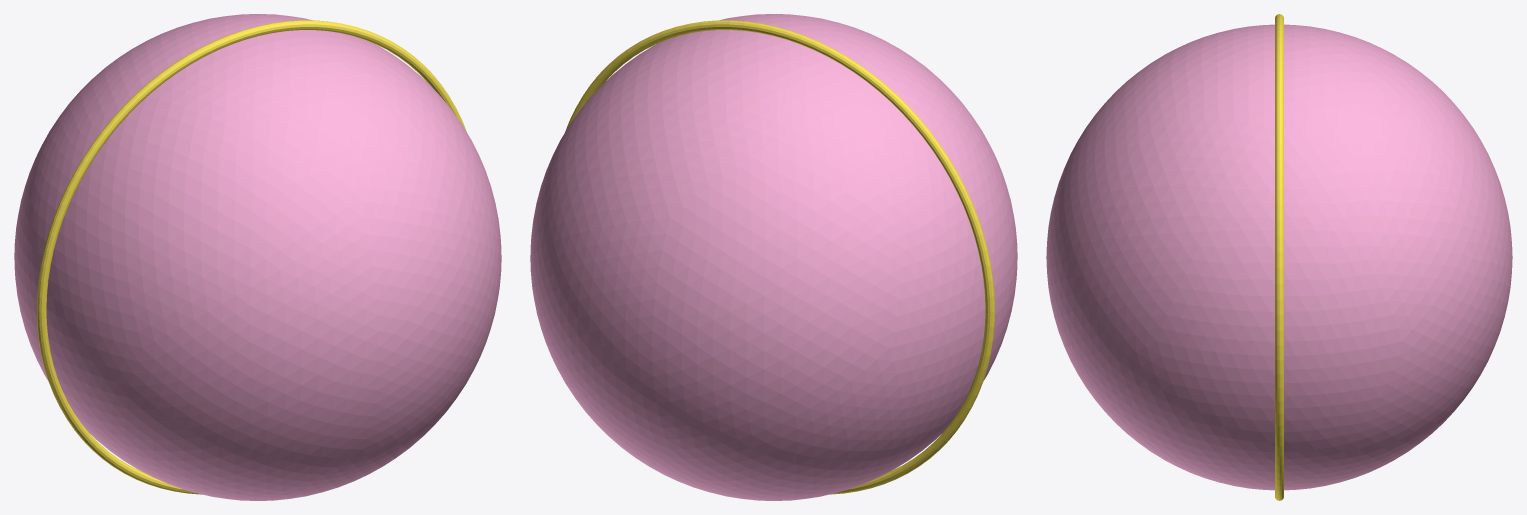
The model's file is matcau.glb.
3 views of the same model, side by side, from view 1: azimuth 30°, elevation 25°; view 2: azimuth 150°, elevation 25°; view 3: azimuth 270°, elevation 25° (orthographic). The views are drawn at different scales.
Parts seen in each view (by area): view 1: sphere_body, equator; view 2: sphere_body, equator; view 3: sphere_body, equator.
Part boxes in pixels (x1,y1,x2,y2): sphere_body: [14, 14, 501, 500]; equator: [37, 20, 466, 494]; sphere_body: [530, 14, 1017, 500]; equator: [565, 20, 994, 494]; sphere_body: [1046, 24, 1512, 490]; equator: [1275, 14, 1283, 500].
Size of the model in its own units: 0.3292 by 0.3292 by 0.315.
